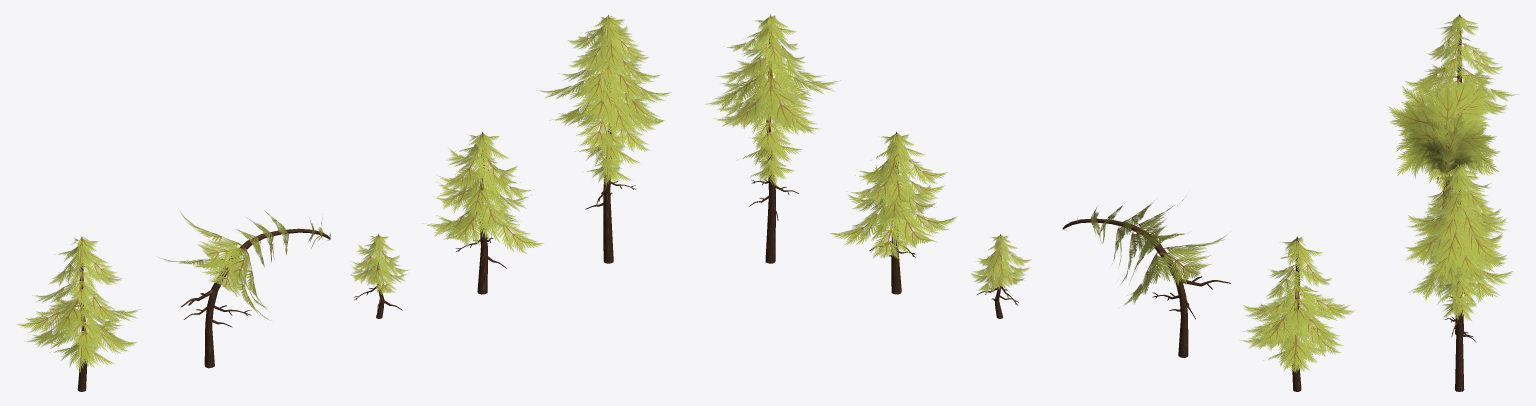
The model's file is PineTrees.glb.
3 views of the same model, side by side, from view 1: azimuth 30°, elevation 25°; view 2: azimuth 150°, elevation 25°; view 3: azimuth 270°, elevation 25° (orthographic). The views are drawn at different scales.
Visible parts, largest first — view 1: PineTree_5; view 2: PineTree_5; view 3: PineTree_5.
Boxes of the visible parts, x1,y1,x2,y2 form: PineTree_5: (16, 15, 670, 391); PineTree_5: (704, 14, 1355, 391); PineTree_5: (1388, 14, 1519, 391).
Bounding box in the file's own units: 18.69 × 6.92 × 3.74.
2 materials, 2 textured.
